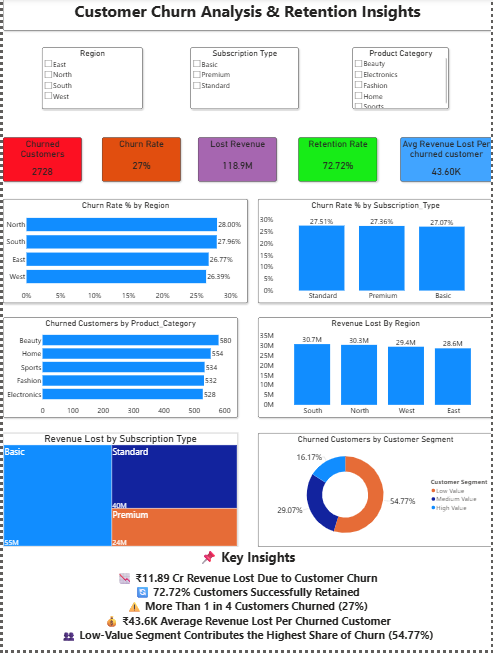

Layout of this report page (visuals, bound fields, positions):
{"tool":"powerbi","page":{"name":"Page 3","canvas":[3600,4800],"ordinal":2},"visuals":[{"type":"textbox","box":[0,0,3600.8,238.3],"z":0},{"type":"card","title":"Churned Customers","fields":{"Values":["customers.Churned Customers"]},"box":[0,1030,578.8,323.5],"z":1},{"type":"card","title":"Churn Rate","fields":{"Values":["customers.Churn Rate %"]},"box":[732.1,1030,578.8,323.5],"z":2},{"type":"card","title":"Lost Revenue","fields":{"Values":["customers.Lost Revenue"]},"box":[1438.6,1030,578.8,323.5],"z":3},{"type":"card","title":"Retention Rate","fields":{"Values":["customers.Retention Rate %"]},"box":[2170.7,1030,578.8,323.5],"z":4},{"type":"card","title":"Avg Revenue Lost Per churned customer","fields":{"Values":["customers.Avg Revenue Lost per Churned Customer"]},"box":[2928.3,1030,672.5,323.5],"z":5},{"type":"clusteredBarChart","fields":{"Category":["customers.Region"],"Y":["customers.Churn Rate %"]},"box":[0,1480.5,1801.4,766.1],"z":6},{"type":"clusteredColumnChart","fields":{"Category":["customers.Subscription_Type"],"Y":["customers.Churn Rate %"]},"box":[1873.9,1480.5,1729,766.1],"z":7},{"type":"clusteredBarChart","fields":{"Y":["customers.Churned Customers"],"Category":["customers.Product_Category"]},"box":[0,2350.1,1729,735.1],"z":8},{"type":"columnChart","title":"Revenue Lost By Region","fields":{"Category":["customers.Region"],"Y":["customers.Lost Revenue"]},"box":[1873.9,2350.1,1729,735.1],"z":9},{"type":"donutChart","fields":{"Y":["customers.Churned Customers"],"Category":["customers.Customer Segment"]},"box":[1873.9,3199.1,1729,838.6],"z":10},{"type":"treemap","title":"Revenue Lost by Subscription Type","fields":{"Group":["customers.Subscription_Type"],"Values":["customers.Lost Revenue"]},"box":[0,3199.1,1729,838.6],"z":11},{"type":"textbox","box":[0,4041.8,3600.1,762],"z":12},{"type":"slicer","title":"Region","fields":{"Values":["customers.Region"]},"box":[287.1,364.4,739.9,452.8],"z":13},{"type":"slicer","title":"Subscription Type","fields":{"Values":["customers.Subscription_Type"]},"box":[1380.4,364.4,795.1,452.8],"z":14},{"type":"slicer","title":"Product Category","fields":{"Values":["customers.Product_Category"]},"box":[2573.1,364.4,706.8,452.8],"z":15}]}

Visuals, with their boxes in screenshot pixels (x1, y1, x2, y2), scaled from the page's 3600x4800 canvas onto the 493x658 screenshot:
textbox: 0,0,492,33
"Churned Customers" card: 0,141,79,186
"Churn Rate" card: 100,141,180,186
"Lost Revenue" card: 197,141,276,186
"Retention Rate" card: 297,141,377,186
"Avg Revenue Lost Per churned customer" card: 401,141,492,186
clusteredBarChart - customers.Region x customers.Churn Rate %: 0,203,247,308
clusteredColumnChart - customers.Subscription_Type x customers.Churn Rate %: 257,203,492,308
clusteredBarChart - customers.Churned Customers x customers.Product_Category: 0,322,237,423
"Revenue Lost By Region" columnChart: 257,322,492,423
donutChart - customers.Churned Customers x customers.Customer Segment: 257,439,492,554
"Revenue Lost by Subscription Type" treemap: 0,439,237,554
textbox: 0,554,492,657
"Region" slicer: 39,50,141,112
"Subscription Type" slicer: 189,50,298,112
"Product Category" slicer: 352,50,449,112
